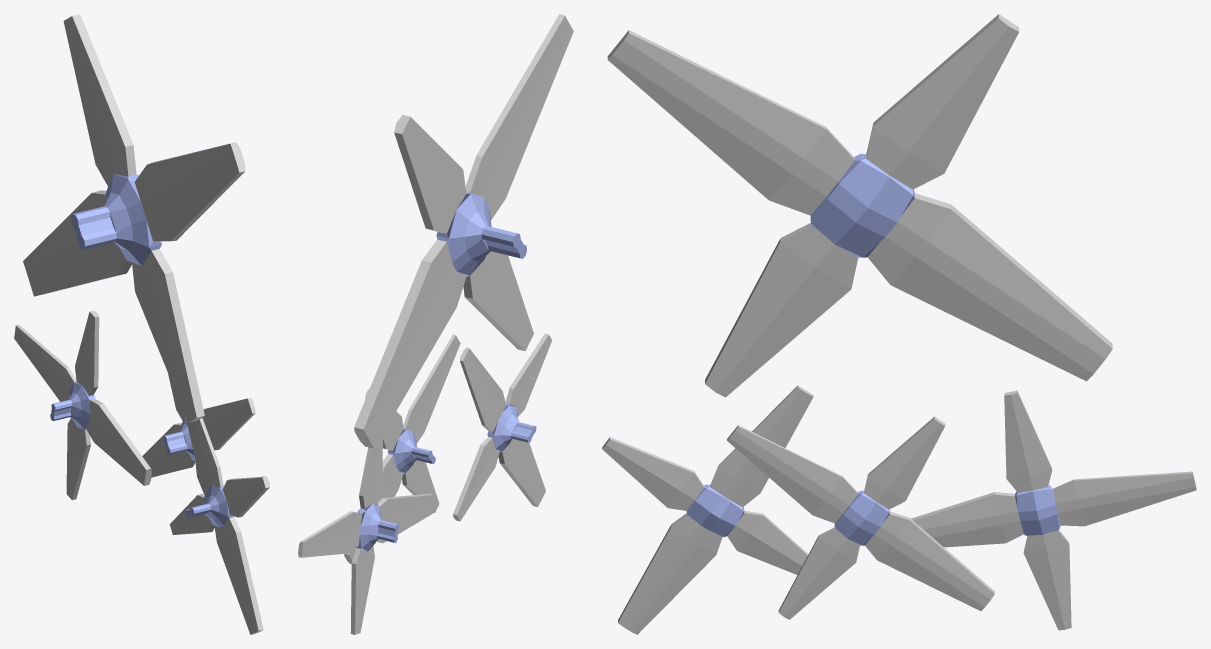
The model's file is helices.fbx.
The picture shows the model from 3 angles, left to right: view 1: azimuth 30°, elevation 25°; view 2: azimuth 150°, elevation 25°; view 3: azimuth 270°, elevation 25°; orthographic projection. The views are drawn at different scales.
Visible parts, largest first — view 1: Helice_Catavento.001, Helice_Catavento.002, Helice_Catavento.004, Helice_Catavento.003; view 2: Helice_Catavento.001, Helice_Catavento.004, Helice_Catavento.002, Helice_Catavento.003; view 3: Helice_Catavento.001, Helice_Catavento.003, Helice_Catavento.002, Helice_Catavento.004.
Part boxes in pixels (<box>): Helice_Catavento.001: <box>23,14,245,422</box>; Helice_Catavento.002: <box>14,310,151,500</box>; Helice_Catavento.004: <box>169,417,269,634</box>; Helice_Catavento.003: <box>142,373,255,494</box>; Helice_Catavento.001: <box>354,14,573,448</box>; Helice_Catavento.004: <box>453,333,551,521</box>; Helice_Catavento.002: <box>298,434,434,634</box>; Helice_Catavento.003: <box>344,334,460,563</box>; Helice_Catavento.001: <box>607,14,1112,397</box>; Helice_Catavento.003: <box>727,416,994,619</box>; Helice_Catavento.002: <box>911,390,1196,630</box>; Helice_Catavento.004: <box>602,385,813,634</box>.
Size of the model in its own units: 102 by 391 by 348.
